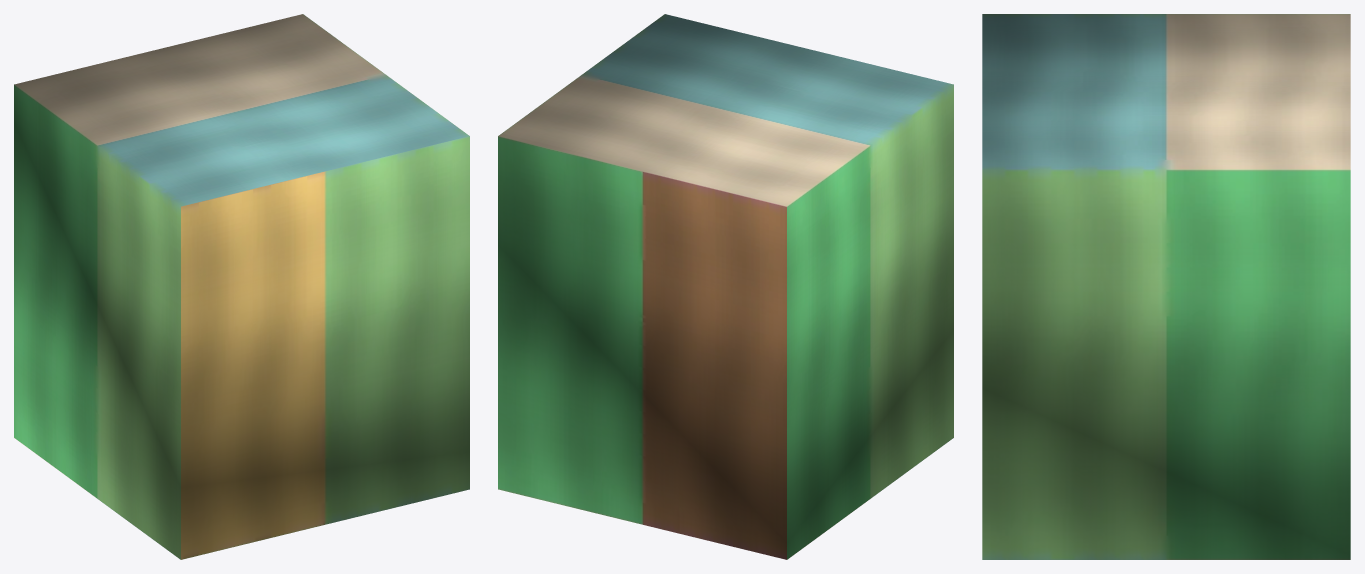
Rendered from gecko_house.glb.
The picture shows the model from 3 angles, left to right: view 1: azimuth 30°, elevation 25°; view 2: azimuth 150°, elevation 25°; view 3: azimuth 270°, elevation 25°; orthographic projection. The views are drawn at different scales.
Parts seen in each view (by area): view 1: col; view 2: col; view 3: col.
Part boxes in pixels (box(x1,y1,x2,y2)): col: box(14, 14, 469, 559); col: box(498, 14, 953, 559); col: box(982, 14, 1350, 559).
Size of what is drawn, in the model's own units: 4.19 by 4.9 by 4.19.
1 material, 1 textured.
